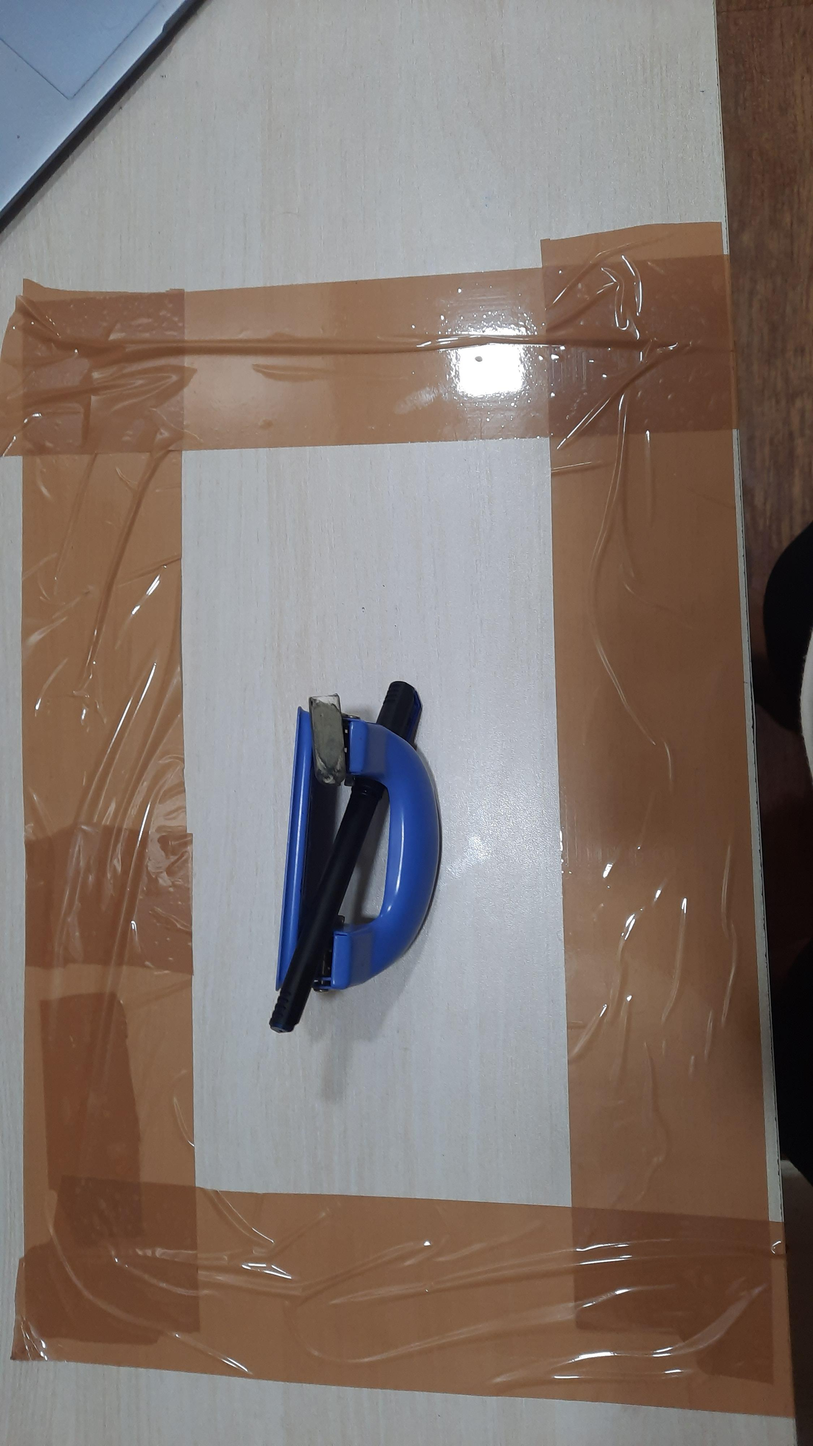Eraser: (308, 693, 348, 787)
Pen: (268, 680, 423, 1034)
Punch: (275, 705, 443, 995)
